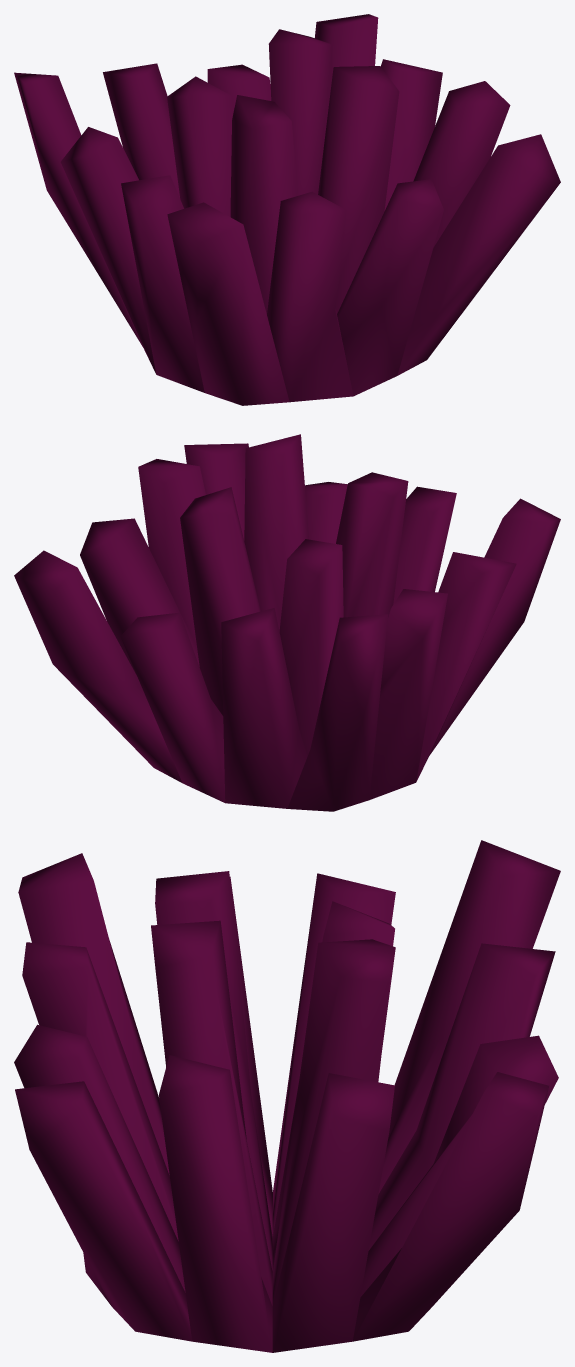
The model's file is seaGrassCylinder2Red.fbx.
3 views of the same model, one above another, from view 1: azimuth 30°, elevation 25°; view 2: azimuth 150°, elevation 25°; view 3: azimuth 270°, elevation 25° (orthographic). The views are drawn at different scales.
Parts seen in each view (by area): view 1: seaGrassCylinder2RedObject; view 2: seaGrassCylinder2RedObject; view 3: seaGrassCylinder2RedObject.
Part boxes in pixels (box(x1,y1,x2,y2)): seaGrassCylinder2RedObject: box(14, 14, 560, 405); seaGrassCylinder2RedObject: box(14, 434, 560, 811); seaGrassCylinder2RedObject: box(14, 840, 560, 1352).
Bounding box in the file's own units: 0.3512 × 0.2546 × 0.3387.
